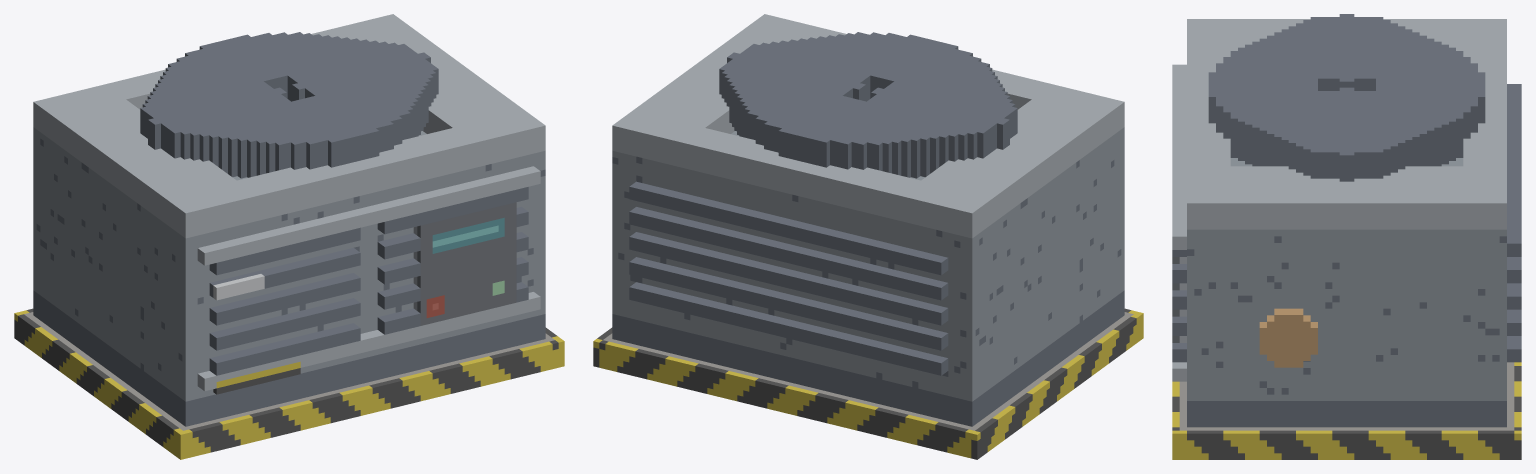
Rendered from cooling_chiller.glb.
The picture shows the model from 3 angles, left to right: view 1: azimuth 30°, elevation 25°; view 2: azimuth 150°, elevation 25°; view 3: azimuth 270°, elevation 25°; orthographic projection. The views are drawn at different scales.
Visible parts, largest first — view 1: cooling_chiller; view 2: cooling_chiller; view 3: cooling_chiller.
Boxes of the visible parts, x1=… form: cooling_chiller: x1=14, y1=14, x2=564, y2=459; cooling_chiller: x1=593, y1=14, x2=1143, y2=459; cooling_chiller: x1=1172, y1=14, x2=1521, y2=459.
Size of the model in its own units: 2 by 1.31 by 1.5.
